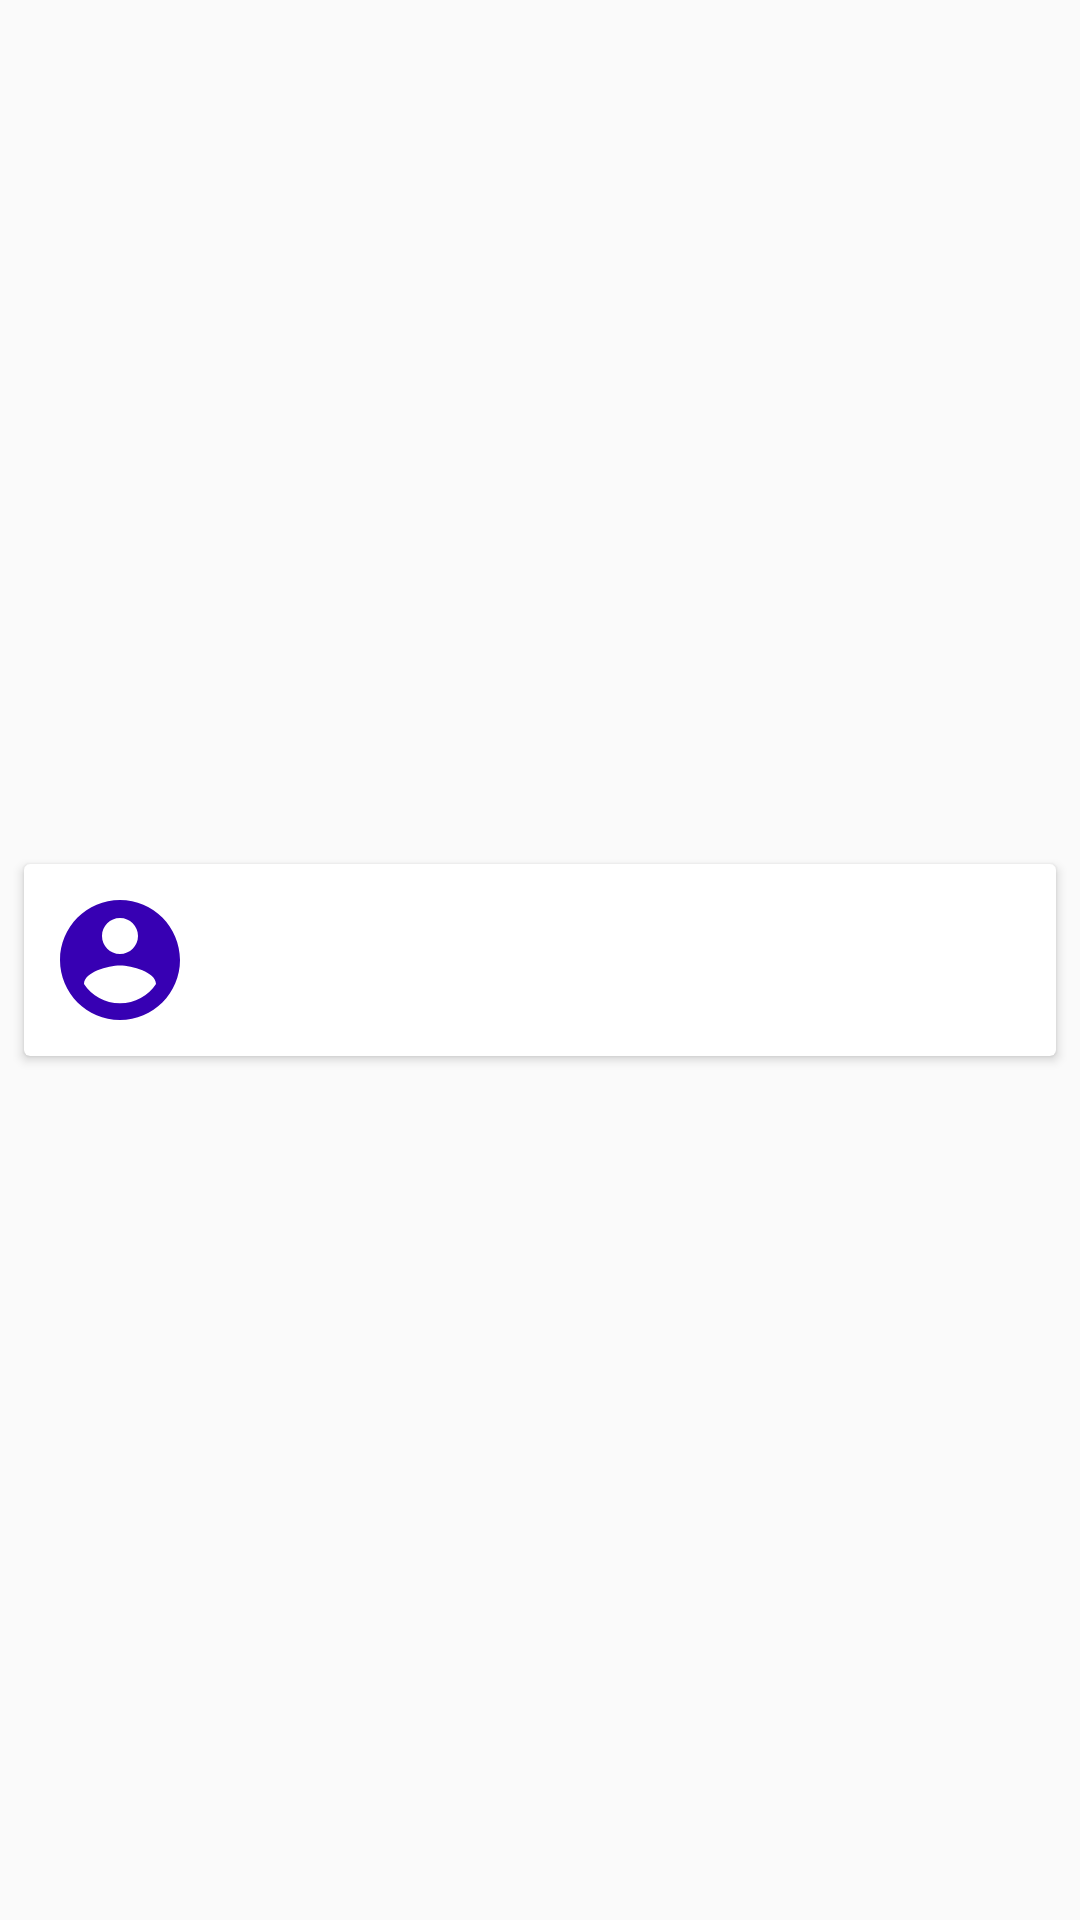

Named icons in this screenshot (1080px×1920px) and their centers, (x=x, y=y):
contact: (x=120, y=960)
